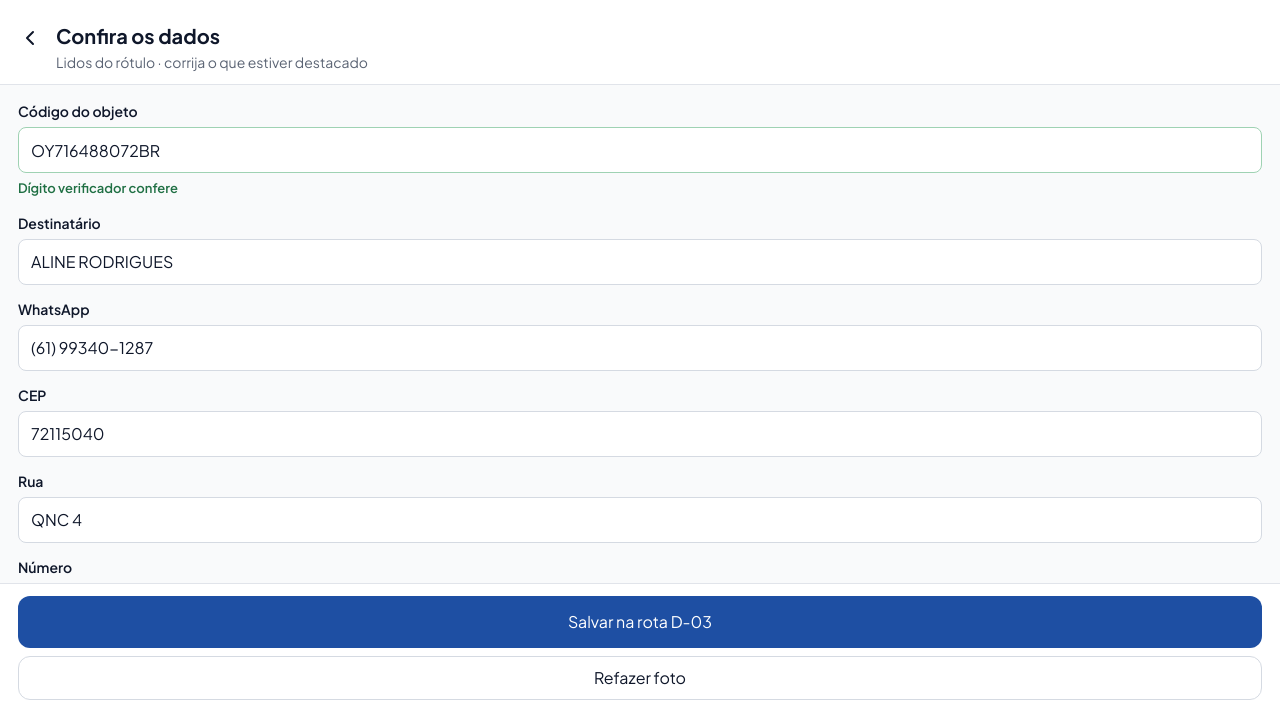
Test case: ConferirPage › UT-092 nome apagado → "Salvar na rota D-03" desabilitado, com "Informe o nome do destinatário"
expect the heading "Confira os dados" is shown: met, box [56,23,220,48]
expect the button "Salvar na rota D-03" is enabled: met, box [18,596,1262,648]
Clear the field labelled "Destinatário": (640, 262) [18,238,1262,284]
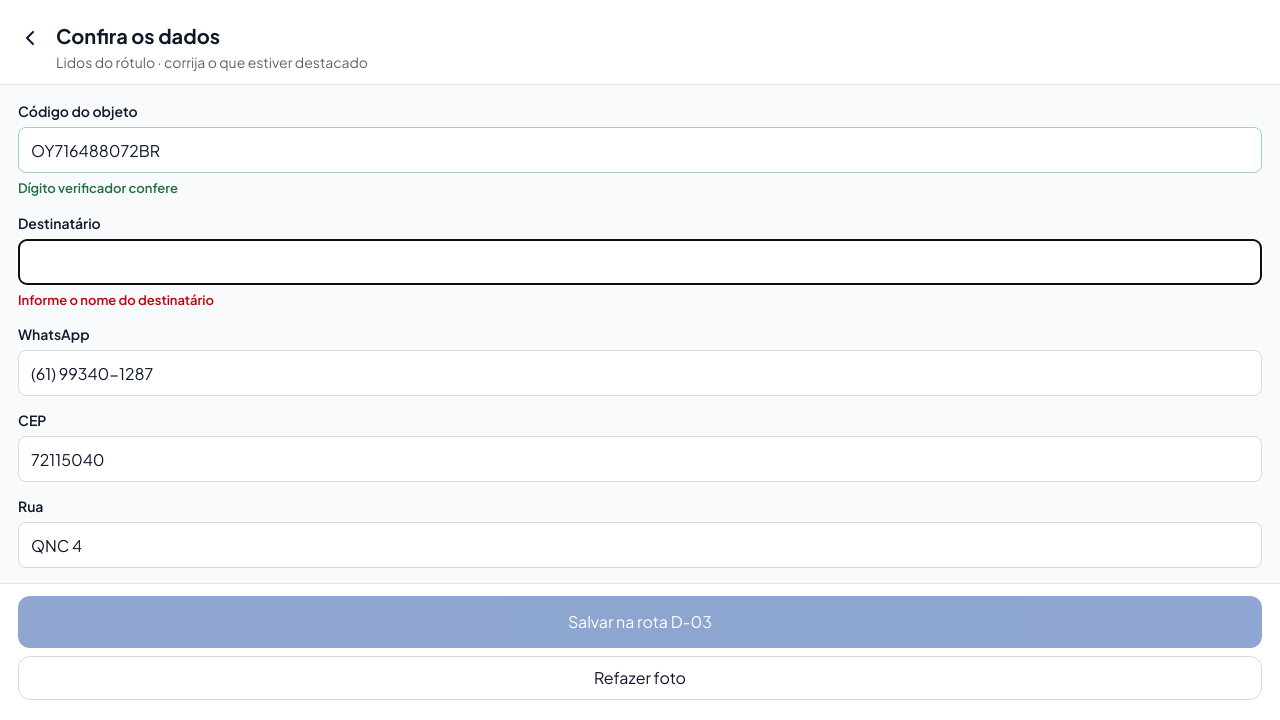
expect the button "Salvar na rota D-03" is disabled: met, box [18,596,1262,648]
expect the text "Informe o nome do destinatário" is shown: met, box [18,292,214,308]
